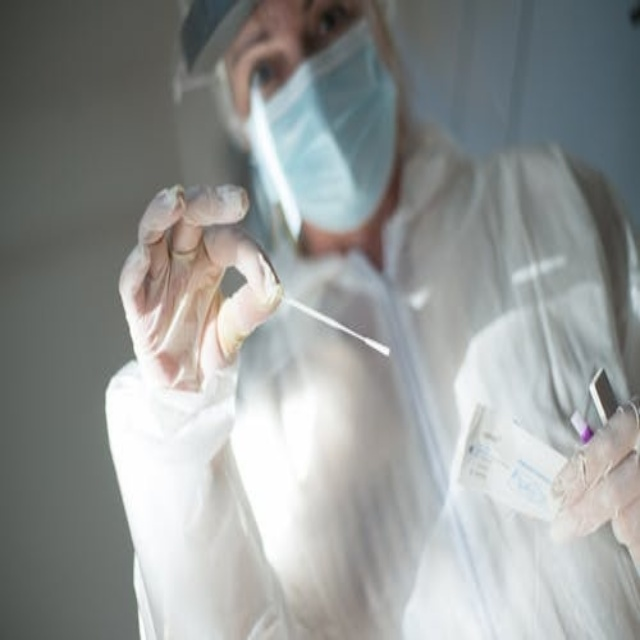Guantes: (118, 179, 283, 397), (549, 394, 640, 557)
Mascara: (238, 14, 397, 240)
Sin_gafas: (232, 4, 355, 117)
